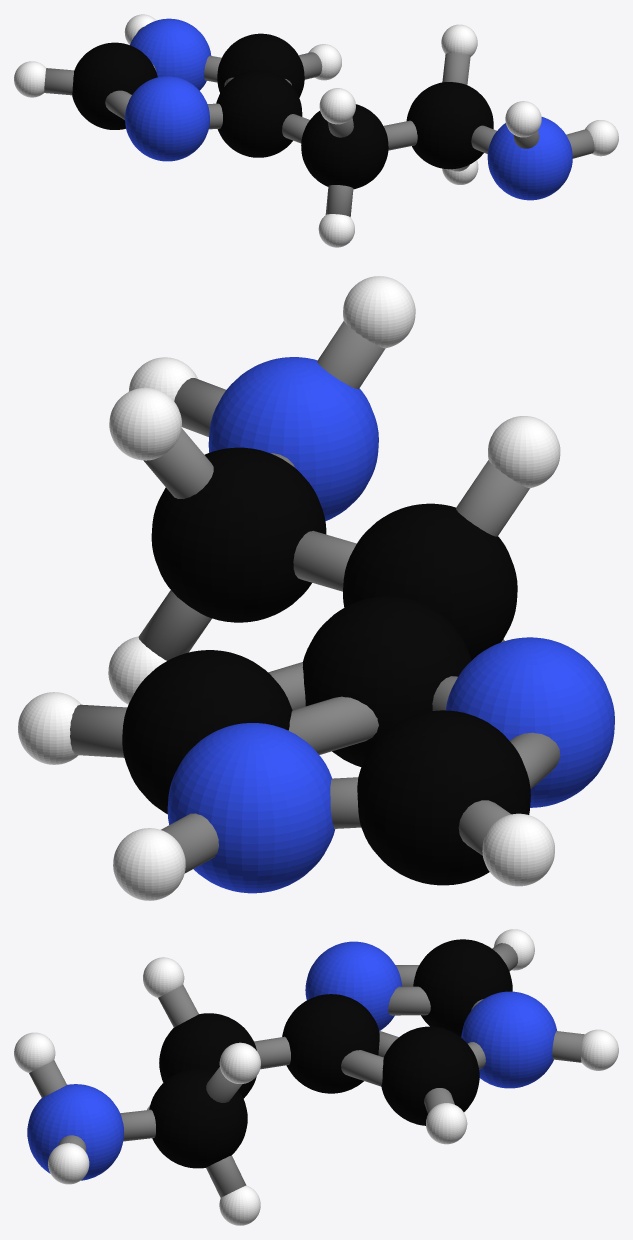
File: HISTAMINA.obj
The picture shows the model from 3 angles, top to bottom: view 1: azimuth 30°, elevation 25°; view 2: azimuth 150°, elevation 25°; view 3: azimuth 270°, elevation 25°; orthographic projection. The views are drawn at different scales.
Parts seen in each view (by area): view 1: Carbon_ball_Sphere.002, Nitrogen_ball_Sphere, Hydrogen_ball_Sphere.001, Stick_Cylinder.012_Cylinder.012, Stick_Cylinder.011_Cylinder.011, Stick_Cylinder.014_Cylinder.014, Stick_Cylinder.005_Cylinder.005, Stick_Cylinder.002_Cylinder.002, Stick_Cylinder.009_Cylinder.009, Stick_Cylinder.017_Cylinder.017, Stick_Cylinder.008_Cylinder.008, Stick_Cylinder.016_Cylinder.016 (+3 smaller); view 2: Carbon_ball_Sphere.002, Nitrogen_ball_Sphere, Hydrogen_ball_Sphere.001, Stick_Cylinder.015_Cylinder.015, Stick_Cylinder.010_Cylinder.010, Stick_Cylinder.013_Cylinder.013, Stick_Cylinder.016_Cylinder.016, Stick_Cylinder.012_Cylinder.012, Stick_Cylinder.014_Cylinder.014, Stick_Cylinder.003_Cylinder.003, Stick_Cylinder.007_Cylinder.007, Stick_Cylinder.002_Cylinder.002 (+4 smaller); view 3: Carbon_ball_Sphere.002, Nitrogen_ball_Sphere, Hydrogen_ball_Sphere.001, Stick_Cylinder.018_Cylinder.018, Stick_Cylinder_Cylinder, Stick_Cylinder.010_Cylinder.010, Stick_Cylinder.013_Cylinder.013, Stick_Cylinder.008_Cylinder.008, Stick_Cylinder.009_Cylinder.009, Stick_Cylinder.007_Cylinder.007, Stick_Cylinder.003_Cylinder.003, Stick_Cylinder.014_Cylinder.014 (+1 smaller).
Part boxes in pixels (bbox=[...]): Carbon_ball_Sphere.002: bbox=[72, 33, 493, 189]; Nitrogen_ball_Sphere: bbox=[125, 18, 572, 200]; Hydrogen_ball_Sphere.001: bbox=[14, 14, 618, 247]; Stick_Cylinder.012_Cylinder.012: bbox=[383, 120, 417, 150]; Stick_Cylinder.011_Cylinder.011: bbox=[325, 185, 353, 216]; Stick_Cylinder.014_Cylinder.014: bbox=[442, 53, 470, 84]; Stick_Cylinder.005_Cylinder.005: bbox=[44, 68, 74, 95]; Stick_Cylinder.002_Cylinder.002: bbox=[566, 129, 594, 158]; Stick_Cylinder.009_Cylinder.009: bbox=[282, 114, 309, 143]; Stick_Cylinder.017_Cylinder.017: bbox=[105, 90, 131, 119]; Stick_Cylinder.008_Cylinder.008: bbox=[471, 125, 496, 153]; Stick_Cylinder.016_Cylinder.016: bbox=[298, 52, 322, 79]; Carbon_ball_Sphere.002: bbox=[122, 447, 530, 885]; Nitrogen_ball_Sphere: bbox=[167, 357, 614, 893]; Hydrogen_ball_Sphere.001: bbox=[18, 276, 560, 900]; Stick_Cylinder.015_Cylinder.015: bbox=[288, 696, 378, 754]; Stick_Cylinder.010_Cylinder.010: bbox=[456, 460, 530, 536]; Stick_Cylinder.013_Cylinder.013: bbox=[138, 590, 211, 660]; Stick_Cylinder.016_Cylinder.016: bbox=[70, 704, 127, 757]; Stick_Cylinder.012_Cylinder.012: bbox=[293, 530, 356, 591]; Stick_Cylinder.014_Cylinder.014: bbox=[143, 428, 213, 498]; Stick_Cylinder.003_Cylinder.003: bbox=[317, 321, 385, 389]; Stick_Cylinder.007_Cylinder.007: bbox=[161, 813, 218, 873]; Stick_Cylinder.002_Cylinder.002: bbox=[174, 378, 225, 436]; Carbon_ball_Sphere.002: bbox=[149, 939, 512, 1168]; Nitrogen_ball_Sphere: bbox=[27, 941, 556, 1180]; Hydrogen_ball_Sphere.001: bbox=[14, 929, 618, 1225]; Stick_Cylinder.018_Cylinder.018: bbox=[341, 1050, 383, 1086]; Stick_Cylinder_Cylinder: bbox=[388, 986, 430, 1015]; Stick_Cylinder.010_Cylinder.010: bbox=[158, 984, 198, 1027]; Stick_Cylinder.013_Cylinder.013: bbox=[206, 1155, 246, 1197]; Stick_Cylinder.008_Cylinder.008: bbox=[120, 1109, 155, 1141]; Stick_Cylinder.009_Cylinder.009: bbox=[254, 1036, 290, 1069]; Stick_Cylinder.007_Cylinder.007: bbox=[552, 1031, 584, 1062]; Stick_Cylinder.003_Cylinder.003: bbox=[29, 1060, 66, 1097]; Stick_Cylinder.014_Cylinder.014: bbox=[206, 1067, 242, 1102].
Bounding box in the file's own units: 7.39 × 2.75 × 8.42.
